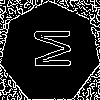M: (25, 27, 71, 70)
